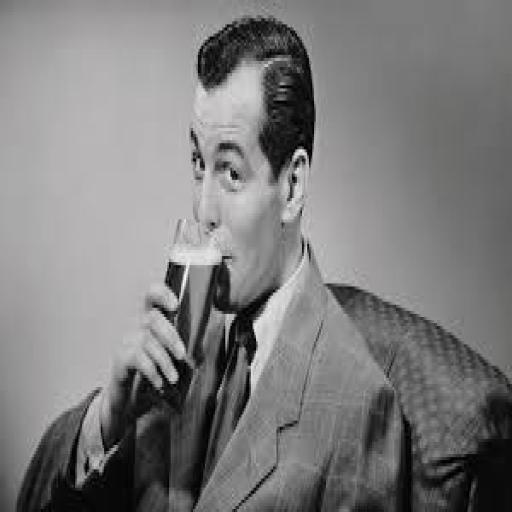drinking: (132, 214, 224, 414)
